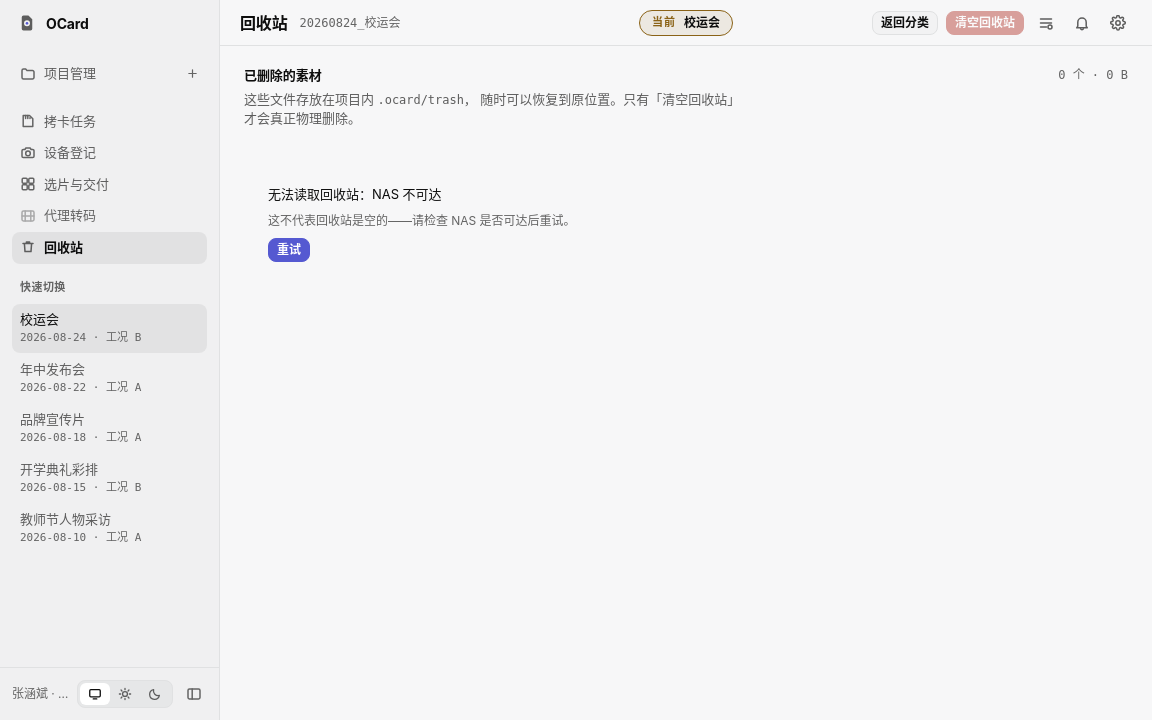
Scenario: 回收站 › #16 读取失败显示错误与重试，绝不渲染成「回收站是空的」
The image size is (1152, 720).
Expected: the element with test id "trash-load-error" shows "NAS 不可达", [372,186,442,202]
Expected: the element with test id "trash-load-error" shows "这不代表回收站是空的", [268,213,576,228]
Click the button with test id "trash-retry" at (289, 250), box [268,238,310,262]
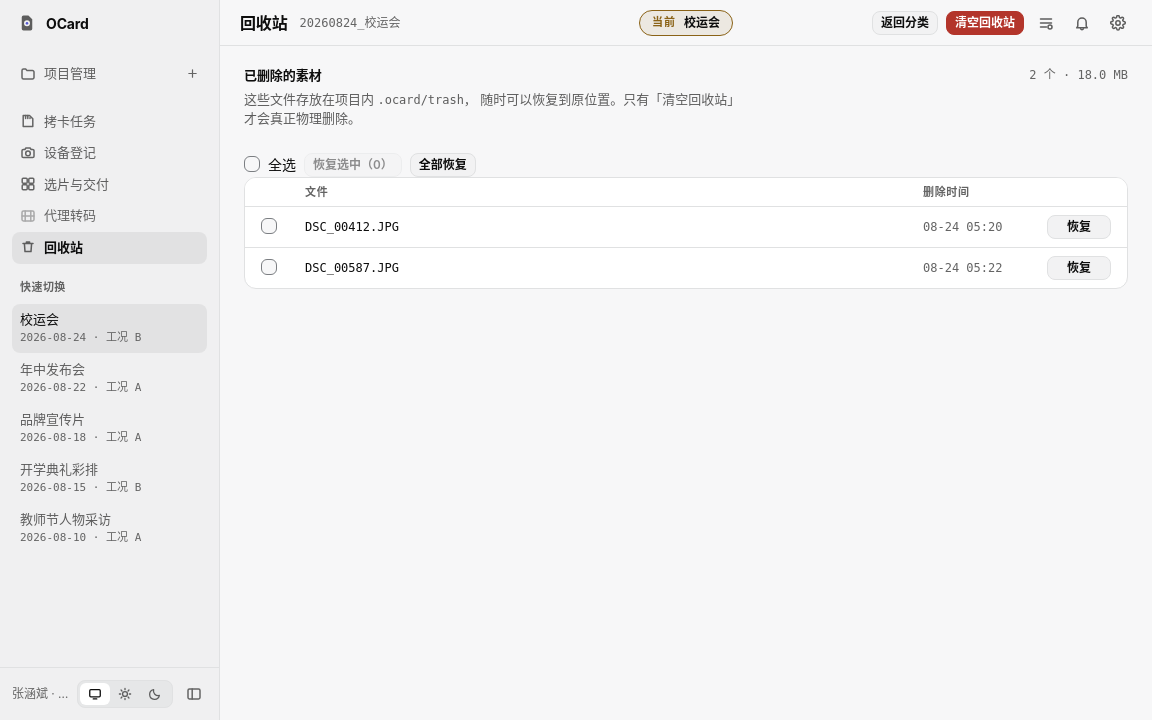
Now the element with test id "trash-load-error" is gone
